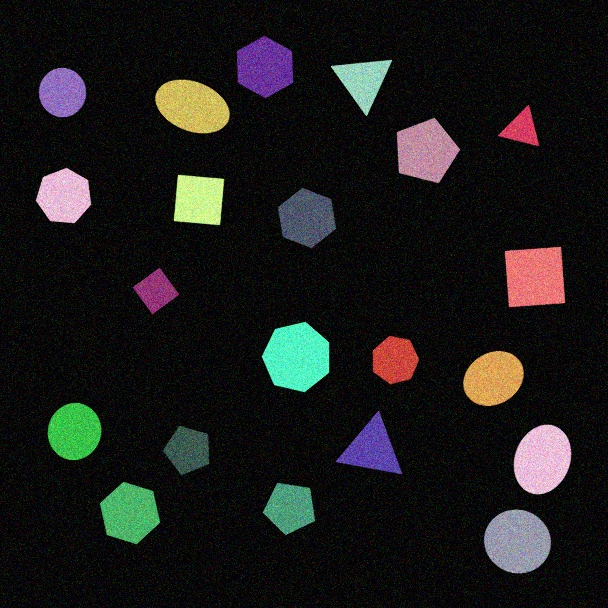Circulo: (483, 509, 552, 574), (47, 402, 102, 461), (38, 67, 87, 118)
Elipse: (154, 79, 231, 134), (513, 424, 572, 495), (462, 350, 525, 407)
Heptagono: (261, 321, 330, 393), (35, 167, 92, 224), (372, 335, 420, 385)
Hexagono: (99, 481, 161, 545), (277, 187, 337, 249), (236, 35, 294, 99)
Pentagono: (396, 117, 461, 184), (262, 482, 316, 536), (162, 425, 210, 476)
Quadrado: (504, 246, 566, 308), (173, 174, 225, 226), (132, 267, 180, 315)
Triangulo: (335, 411, 403, 475), (330, 59, 393, 117), (497, 105, 540, 147)
